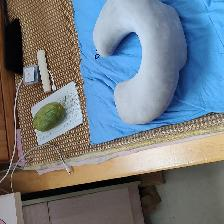gua: (23, 102, 67, 132)
